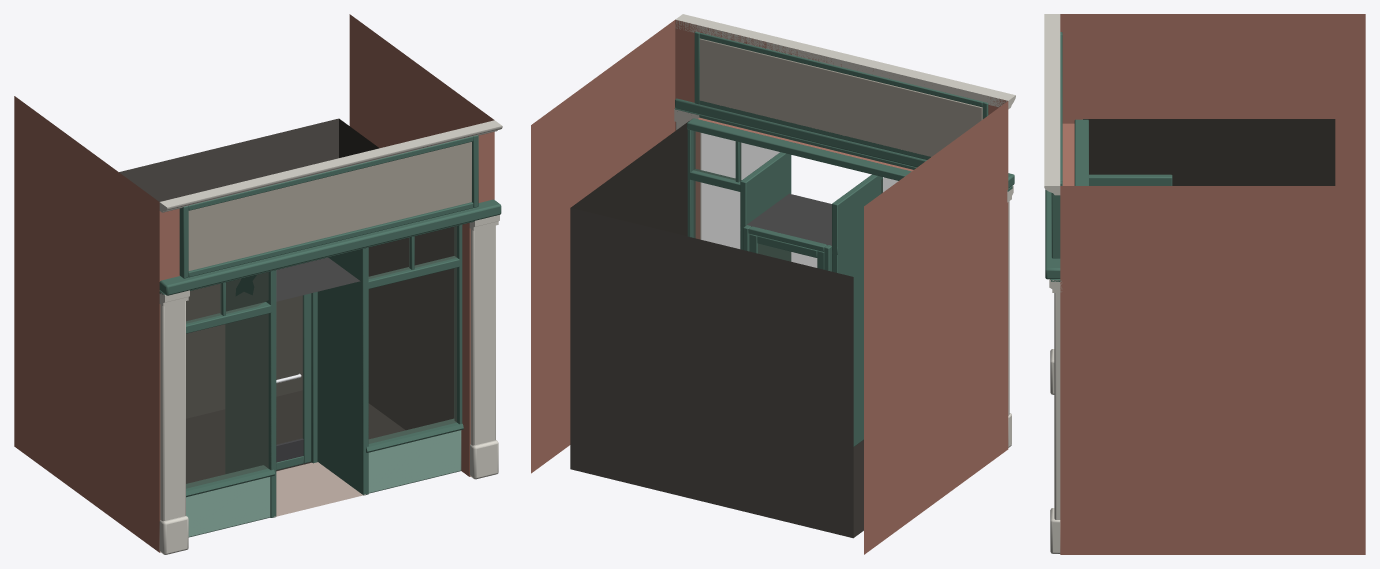
Rendered from shop_dark_4a.glb.
The picture shows the model from 3 angles, left to right: view 1: azimuth 30°, elevation 25°; view 2: azimuth 150°, elevation 25°; view 3: azimuth 270°, elevation 25°; orthographic projection. The views are drawn at different scales.
Parts seen in each view (by area): view 1: shop_dark_4a; view 2: shop_dark_4a; view 3: shop_dark_4a.
Boxes of the visible parts, x1=… form: shop_dark_4a: x1=14, y1=14, x2=502, y2=554; shop_dark_4a: x1=531, y1=14, x2=1015, y2=554; shop_dark_4a: x1=1044, y1=14, x2=1365, y2=554.
Size of the model in its own units: 4 by 4 by 3.16.
